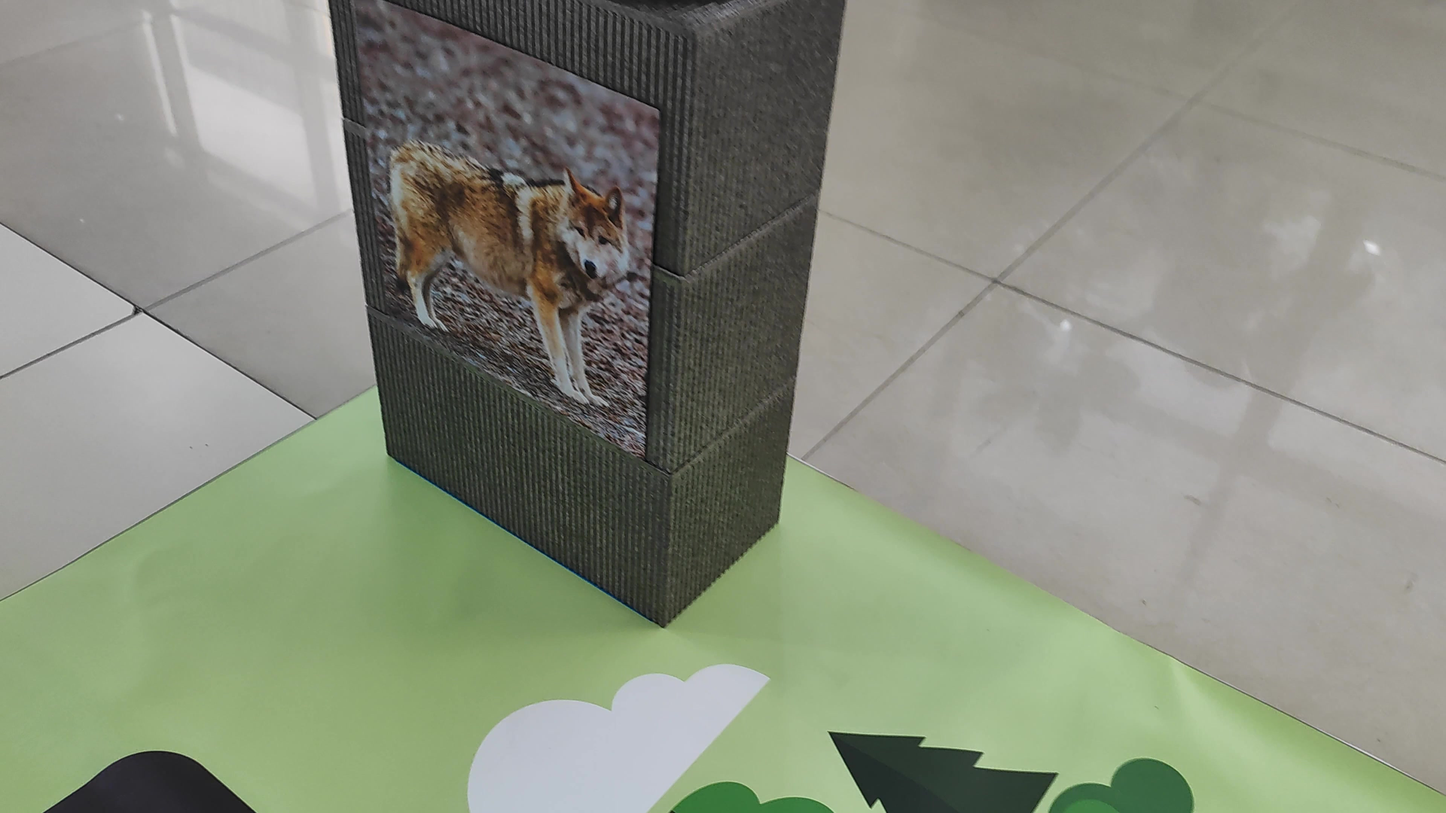wolf: (372, 114, 652, 410)
